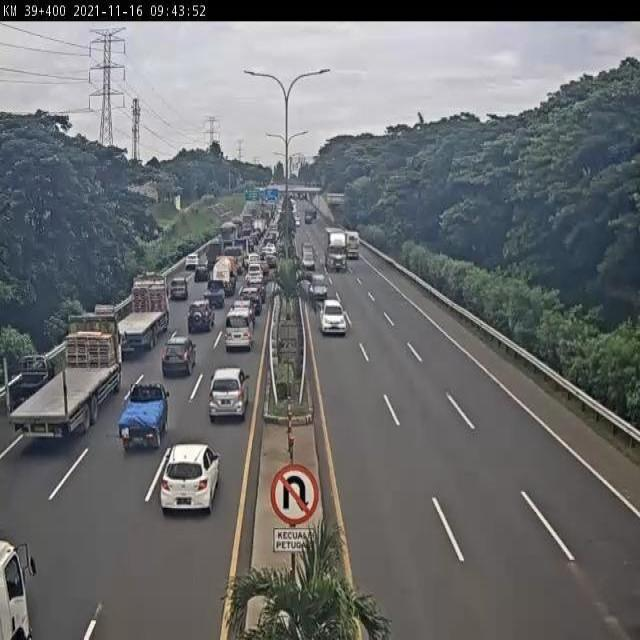Car: (158, 443, 220, 517), (0, 537, 37, 640), (208, 366, 250, 422), (161, 335, 197, 378), (319, 299, 348, 336), (186, 300, 216, 334), (231, 299, 254, 329), (239, 286, 263, 314), (308, 273, 328, 304), (246, 277, 268, 301), (170, 276, 188, 300), (193, 264, 210, 283), (247, 263, 263, 280), (185, 253, 199, 270)
Truck: (5, 300, 127, 442), (120, 274, 170, 356), (117, 384, 173, 452), (4, 355, 56, 408), (322, 225, 348, 273), (211, 256, 237, 298), (203, 279, 228, 310), (224, 245, 245, 272), (218, 220, 238, 246), (344, 230, 361, 260), (206, 241, 223, 266), (304, 208, 313, 226)
Van: (224, 309, 255, 352)
